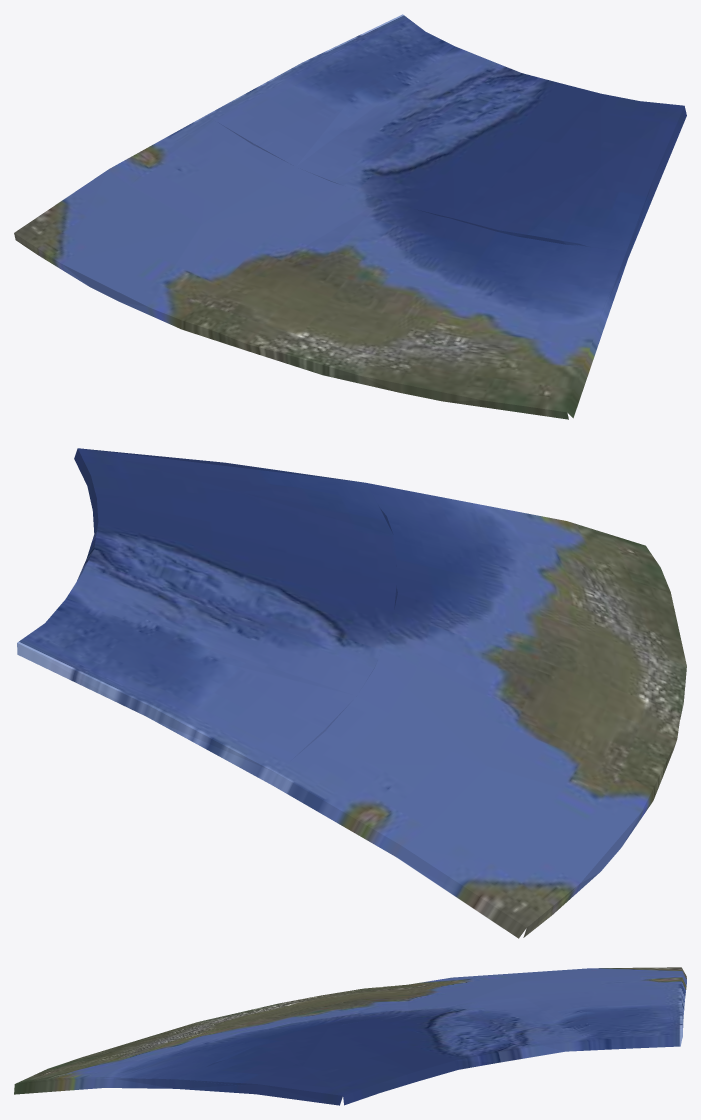
3 views of the same model, one above another, from view 1: azimuth 30°, elevation 25°; view 2: azimuth 150°, elevation 25°; view 3: azimuth 270°, elevation 25° (orthographic). The views are drawn at different scales.
Bounding box in the file's own units: 1582781 × 391107 × 1750133.
1 material, 1 textured.
